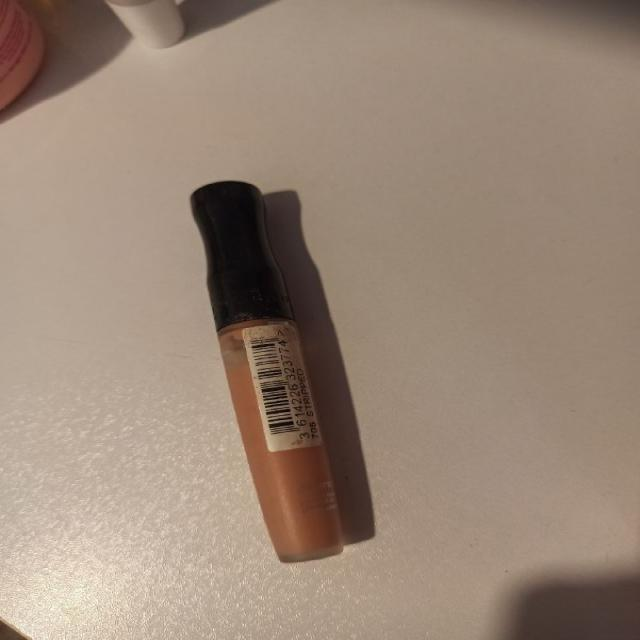lipstick: (189, 180, 345, 562)
